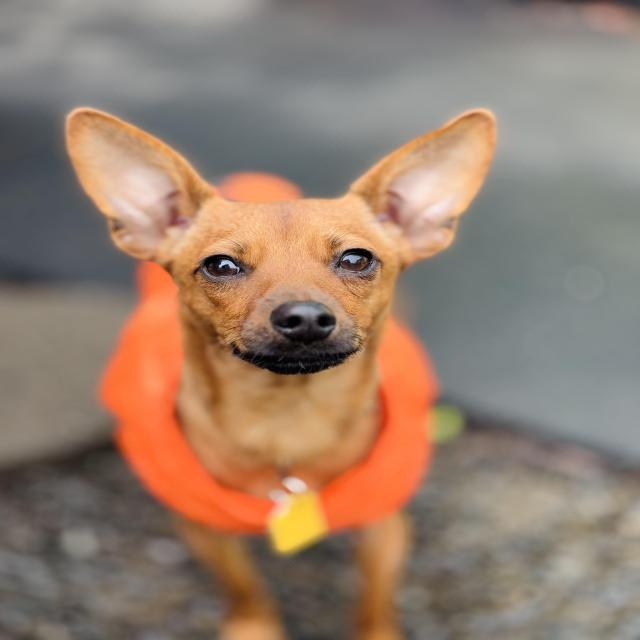chihuahua_dog: (42, 89, 524, 403)
